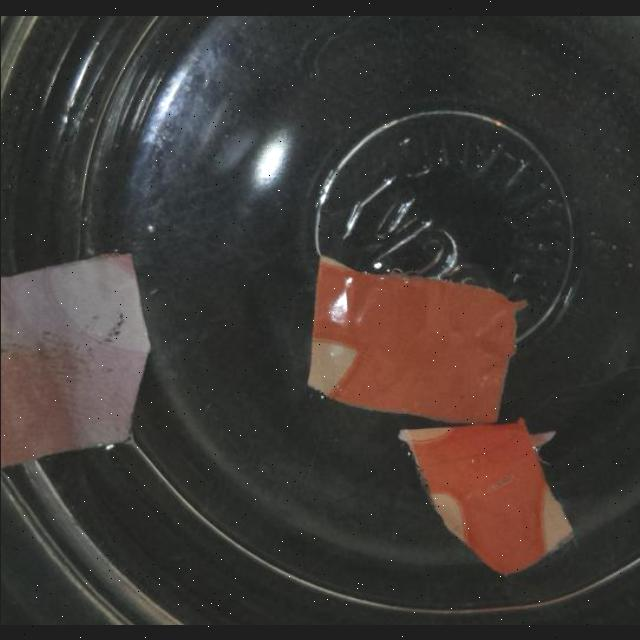Fragment: (304, 253, 524, 419), (0, 254, 149, 477), (398, 418, 570, 578)
